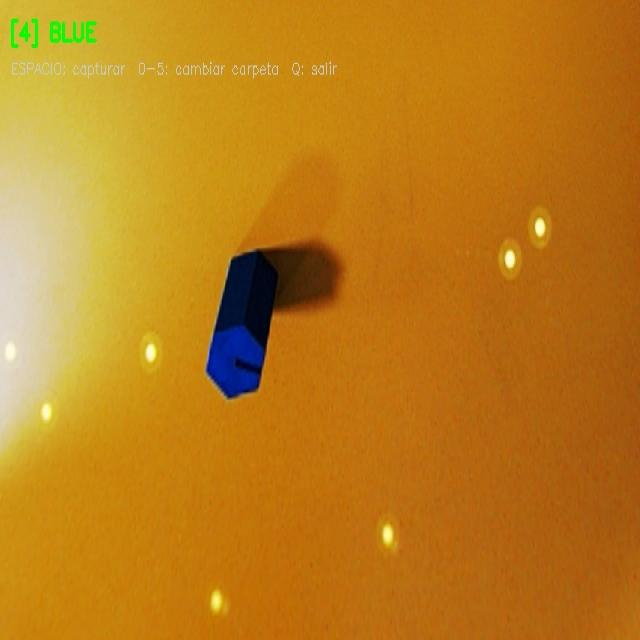blue: (206, 251, 277, 397)
